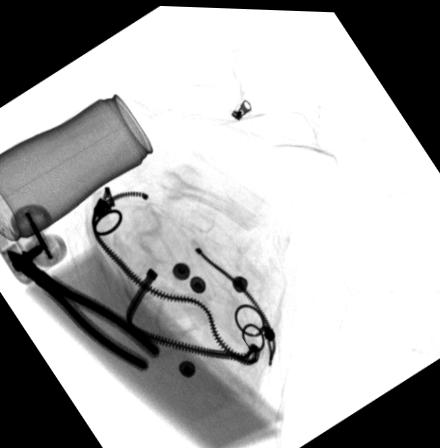Pliers: (3, 249, 162, 372)
